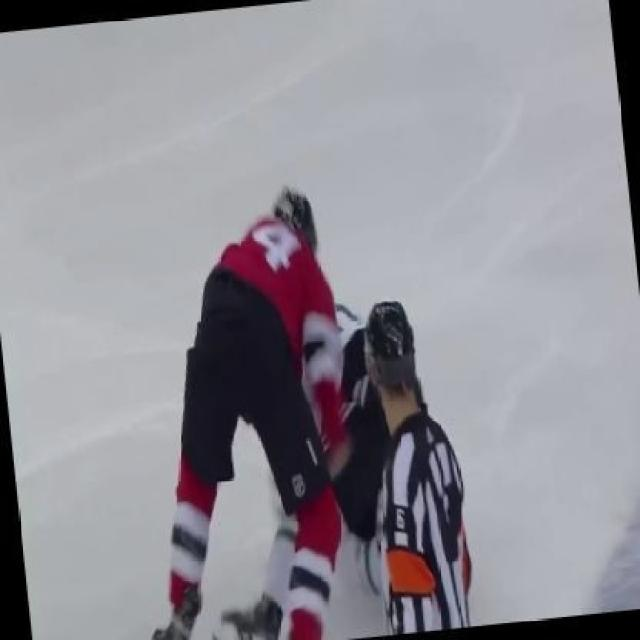fight: (77, 137, 508, 638)
